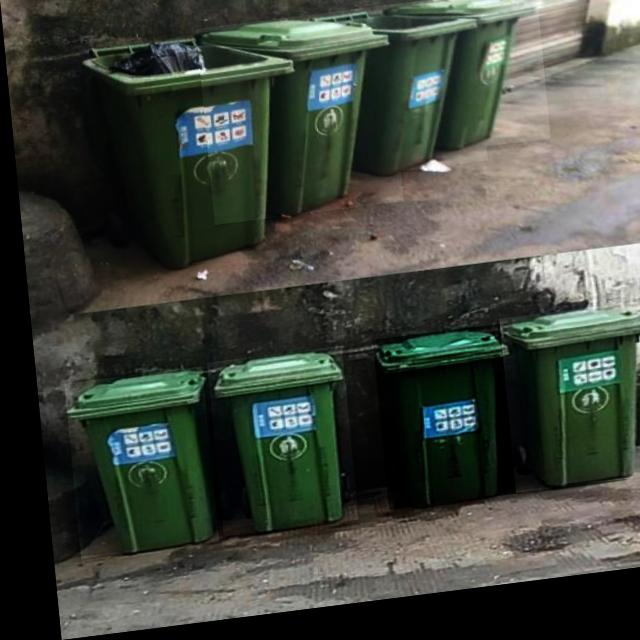garbage_bin: (195, 15, 399, 230), (309, 9, 484, 189), (56, 371, 208, 559), (492, 317, 640, 506), (199, 354, 347, 542), (384, 0, 547, 167), (365, 336, 510, 519)
overflow: (79, 31, 305, 278)
